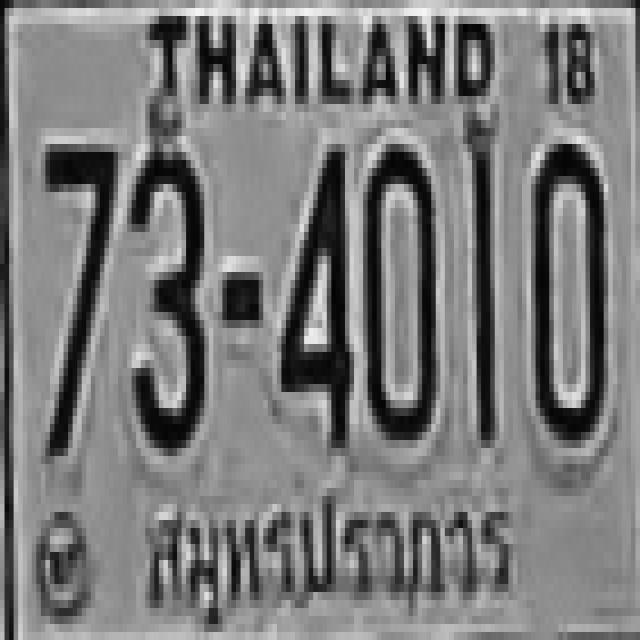0: (531, 136, 604, 440), (361, 140, 433, 436)
1: (470, 124, 492, 444)
3: (127, 144, 200, 448)
4: (277, 136, 349, 440)
7: (41, 136, 113, 456), (41, 140, 113, 364)
SamutPrakan: (137, 486, 526, 622)
